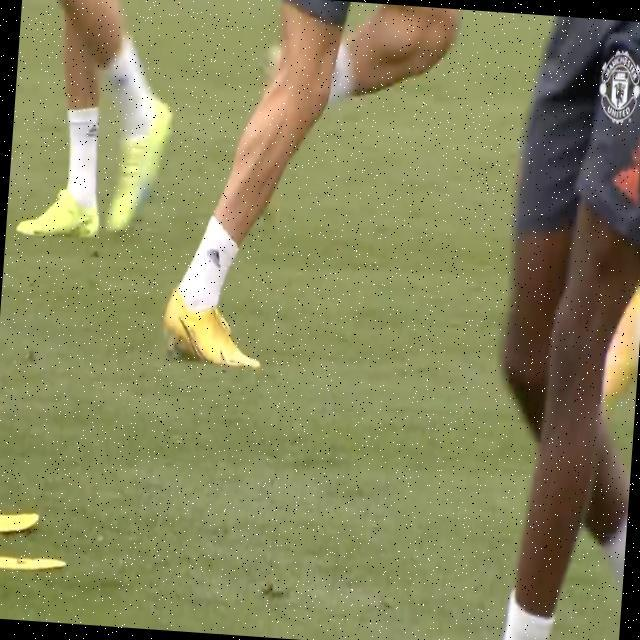Adidas: (611, 166, 640, 203), (206, 245, 222, 268), (86, 119, 99, 141)
